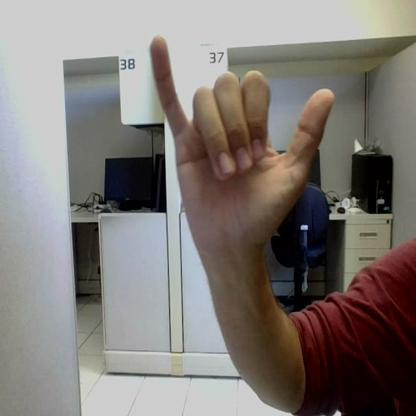Y: (152, 36, 334, 246)
